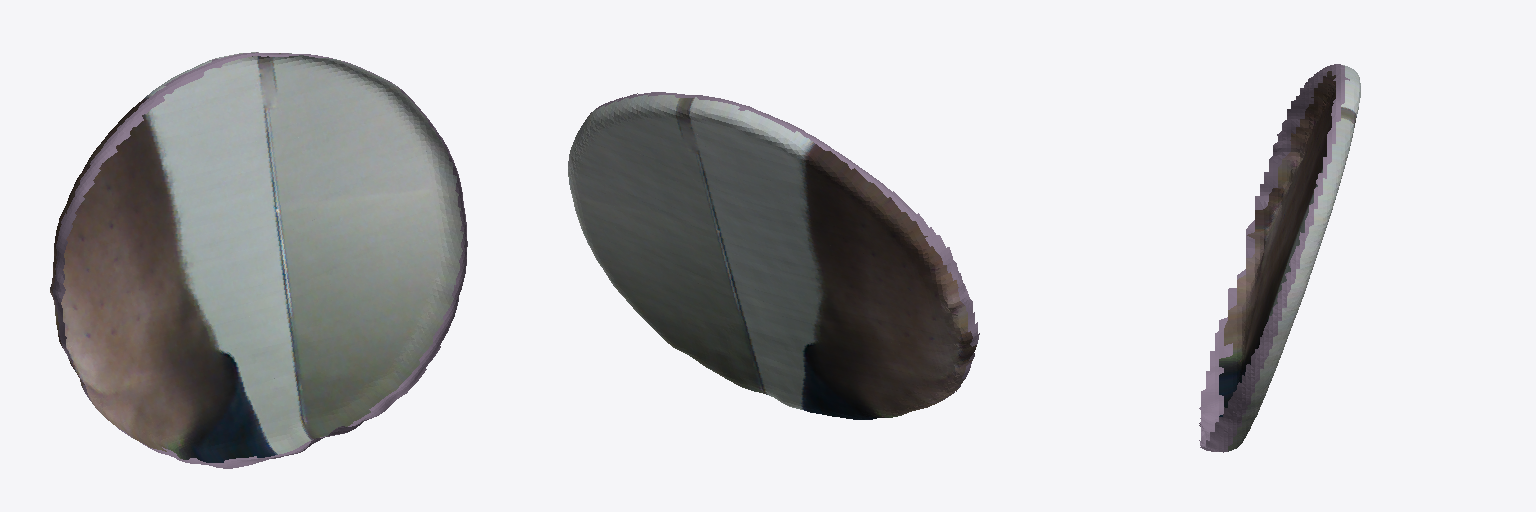
The picture shows the model from 3 angles: view 1: azimuth 30°, elevation 25°; view 2: azimuth 150°, elevation 25°; view 3: azimuth 270°, elevation 25°; orthographic projection.
Bounding box in the file's own units: 0.1951 × 0.1627 × 0.0687.
2 materials, 2 textured.